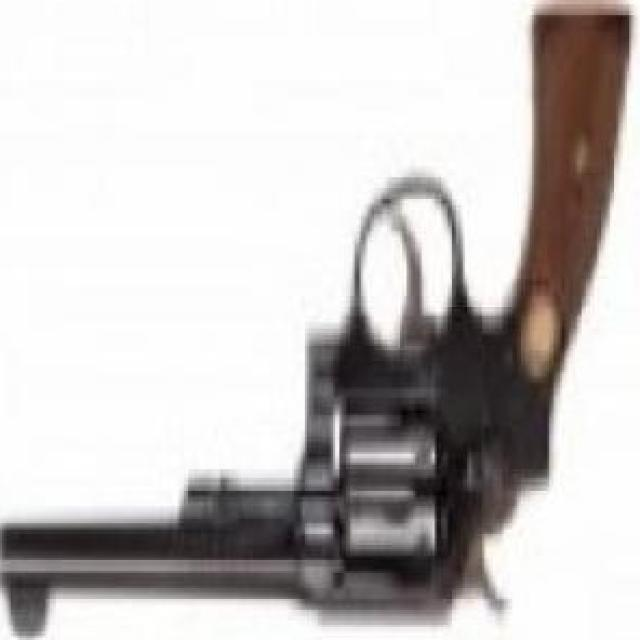pistol: (2, 2, 636, 636)
